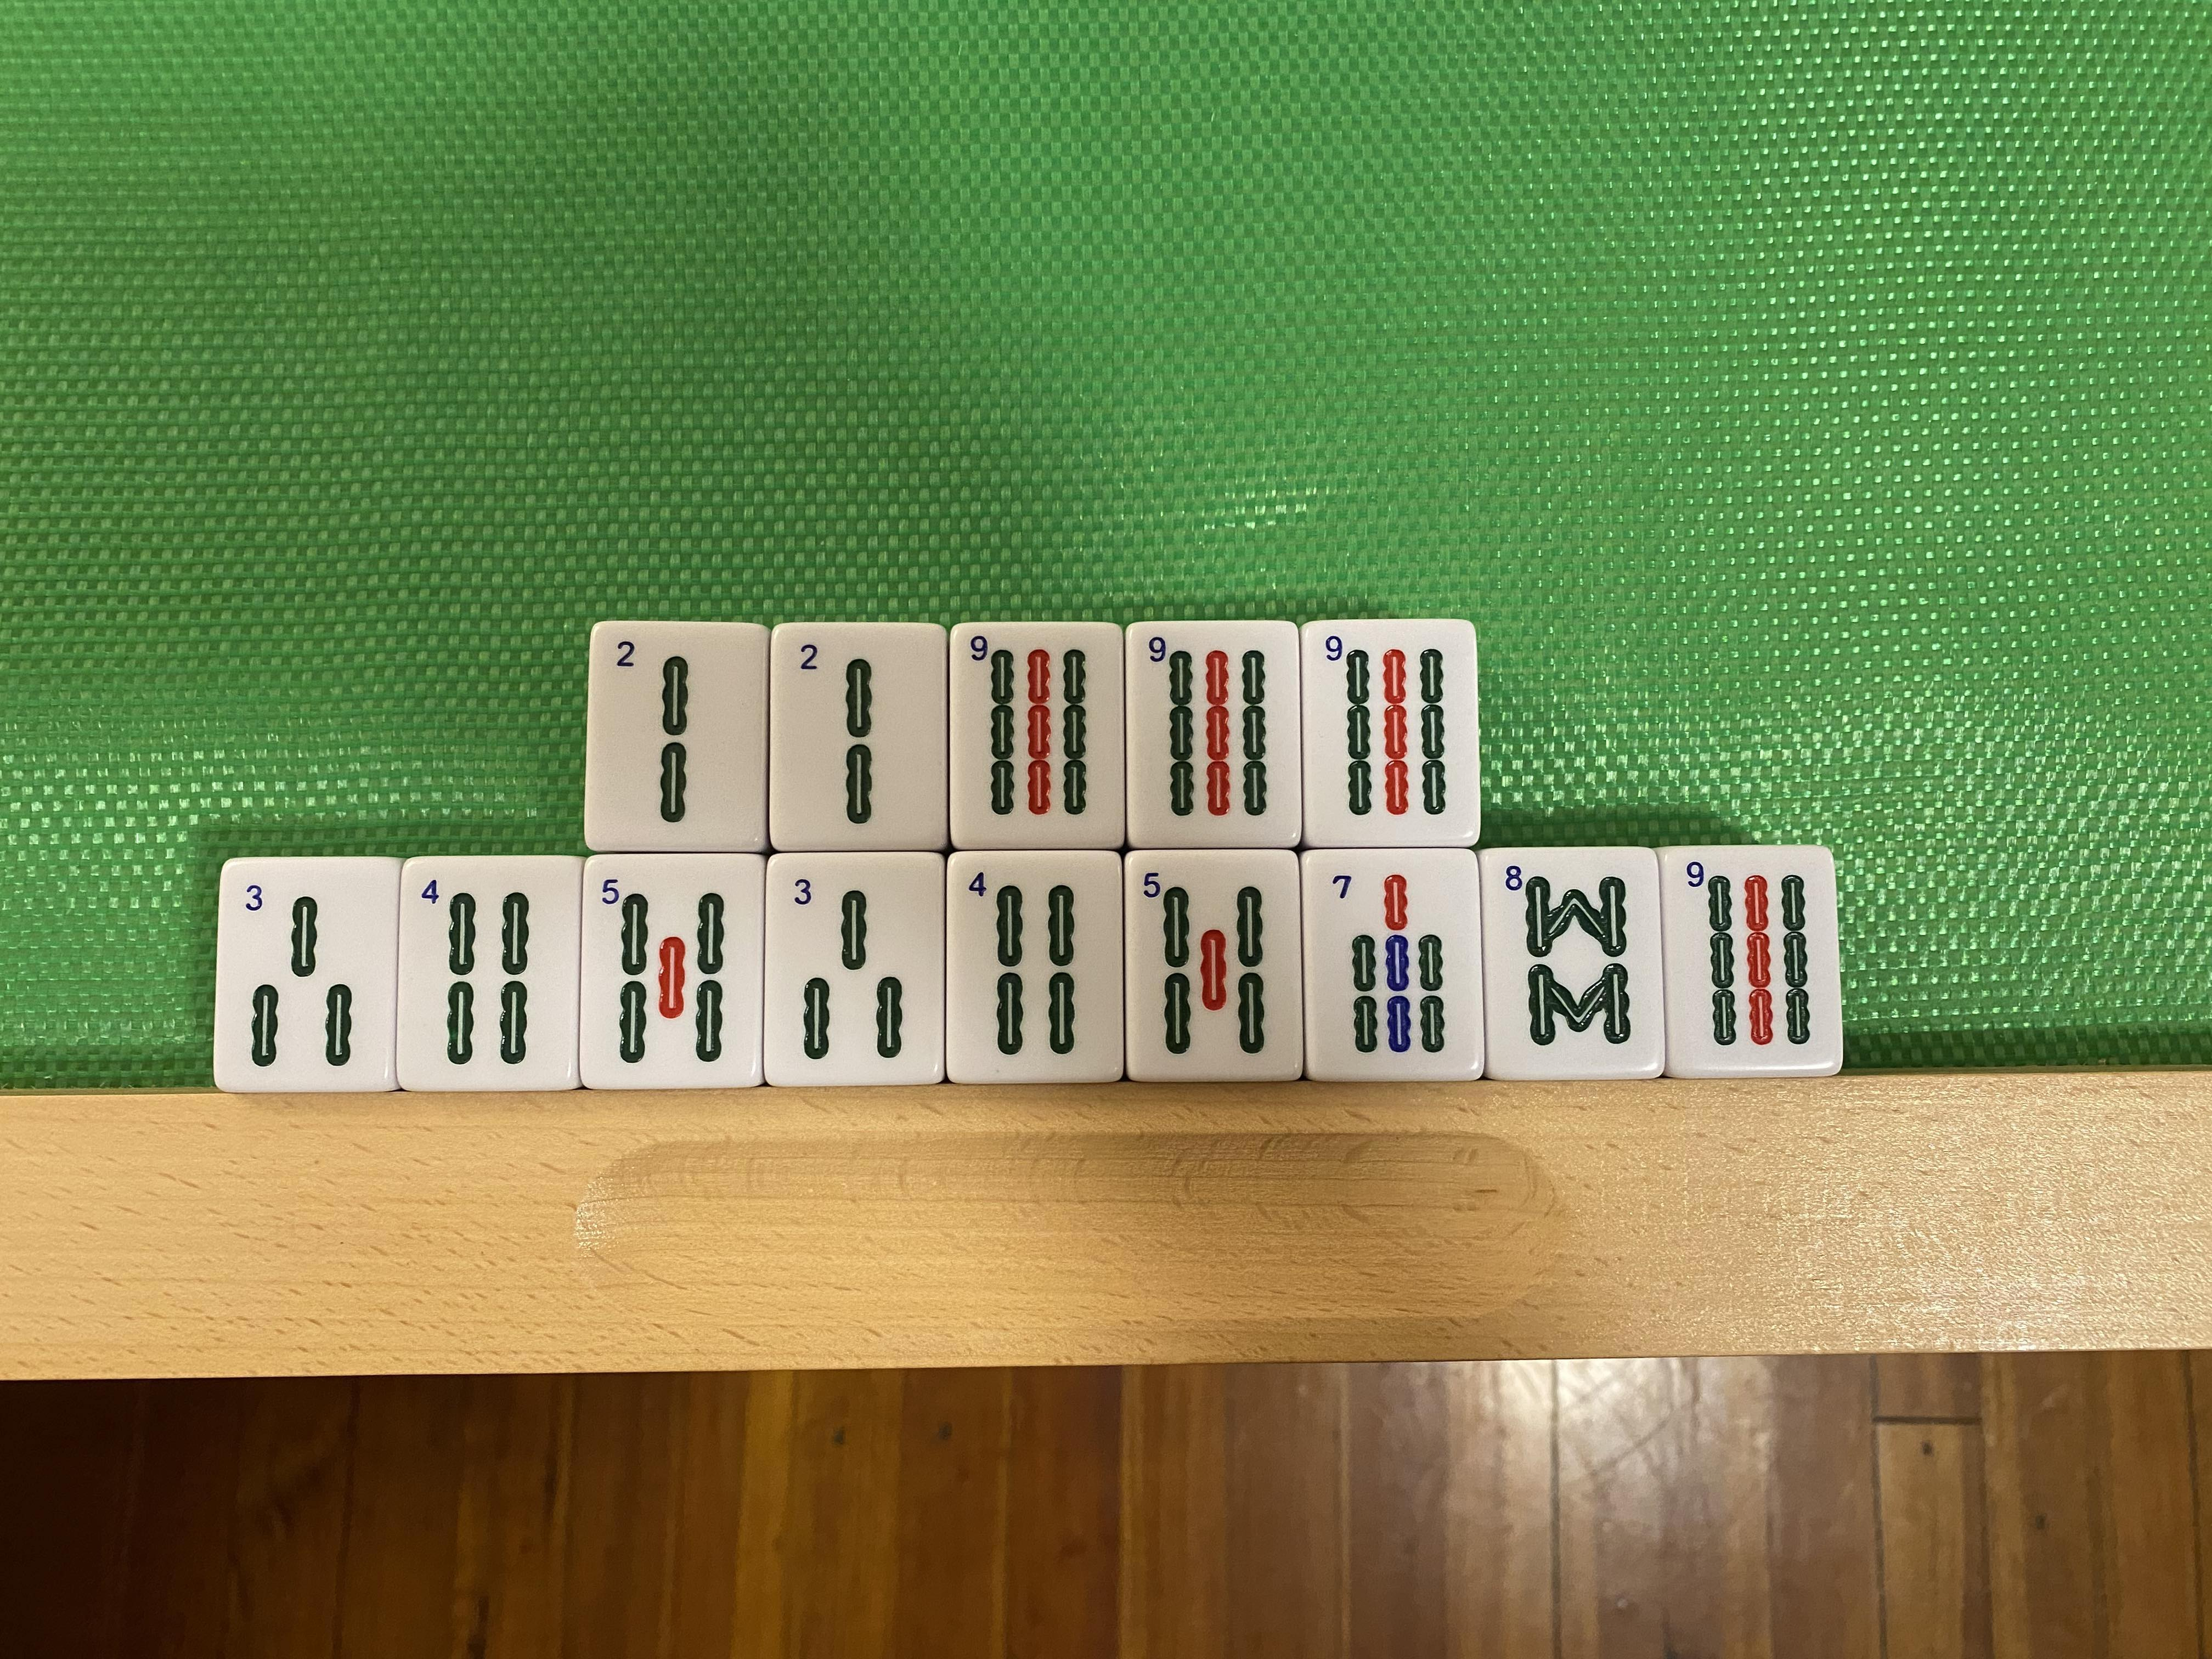bamboo-eight: (1487, 847, 1655, 1079)
bamboo-five: (585, 856, 765, 1087), (1129, 852, 1298, 1082)
bamboo-four: (399, 859, 582, 1089), (949, 852, 1120, 1082)
bamboo-nine: (1122, 622, 1298, 845), (1306, 617, 1475, 843), (1667, 849, 1832, 1073), (953, 627, 1116, 845)
bamboo-seven: (1308, 852, 1477, 1079)
bamboo-three: (766, 854, 944, 1086), (214, 863, 395, 1087)
bamboo-two: (587, 627, 766, 852), (770, 626, 944, 847)
